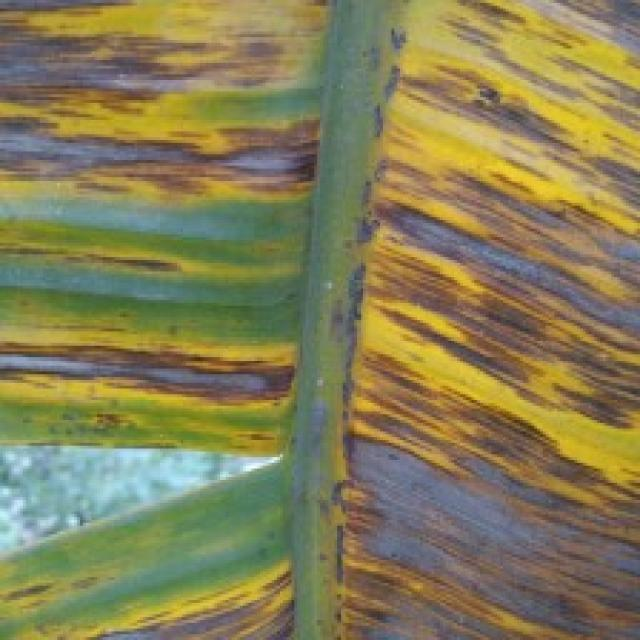Early_leaf_spot: (337, 0, 640, 640), (0, 1, 321, 193), (0, 308, 292, 448), (0, 524, 300, 639), (0, 230, 192, 290)
